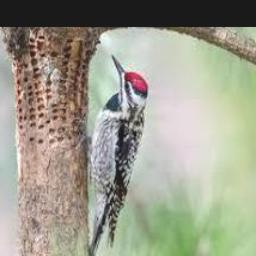Woodpecker: (86, 53, 147, 256)
